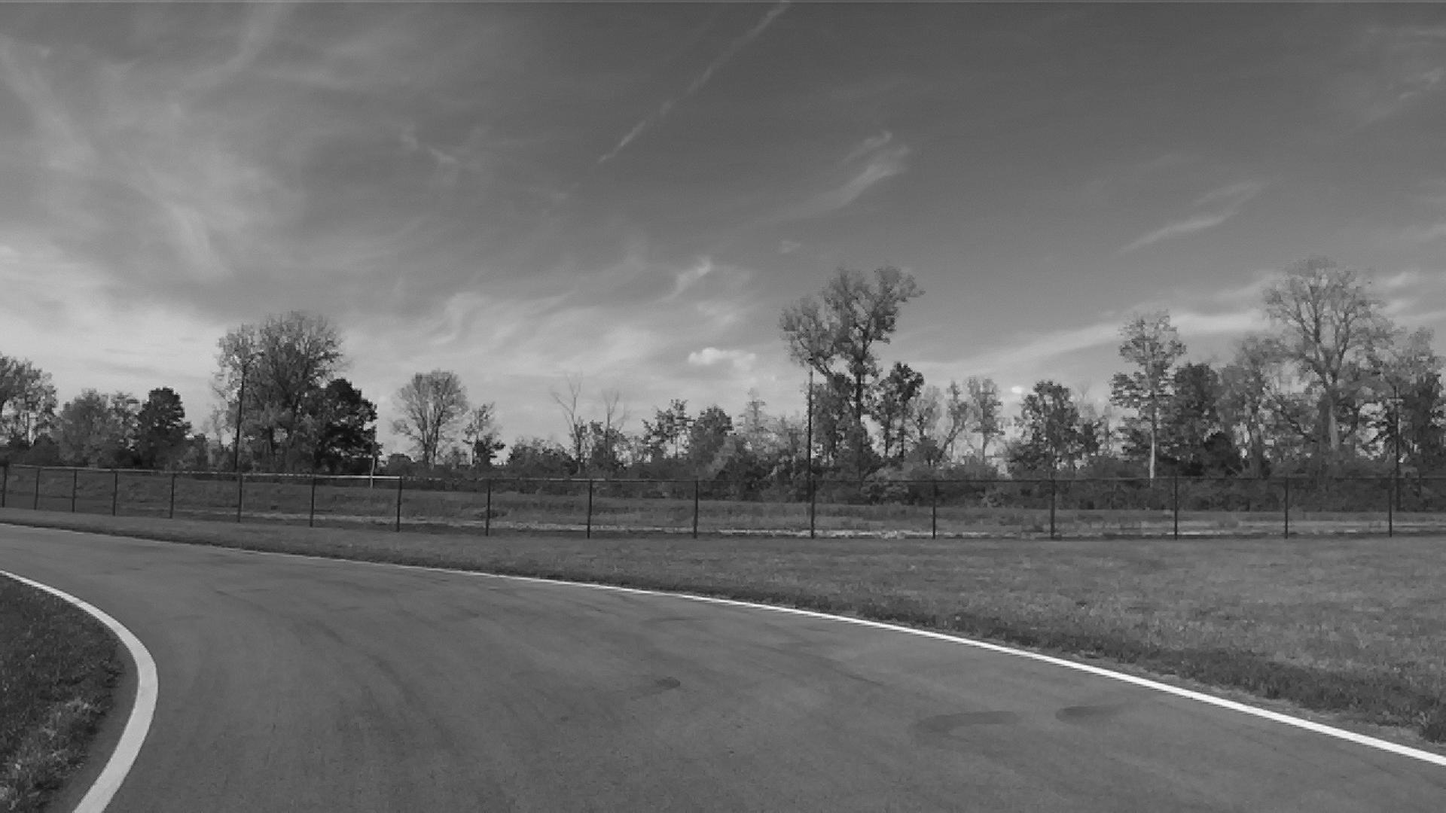white-line: (388, 563, 1445, 766), (0, 570, 157, 812)
